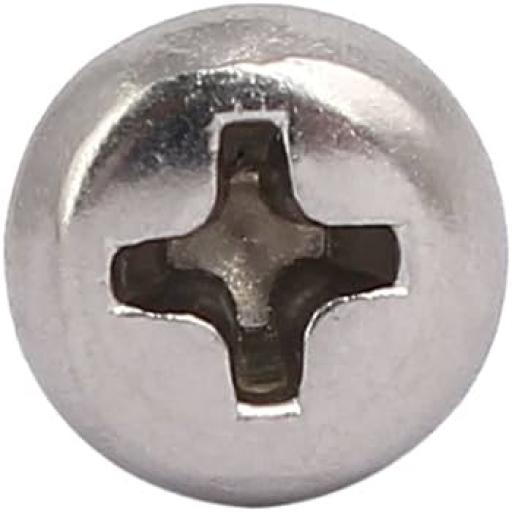Phillips: (2, 4, 504, 501)
